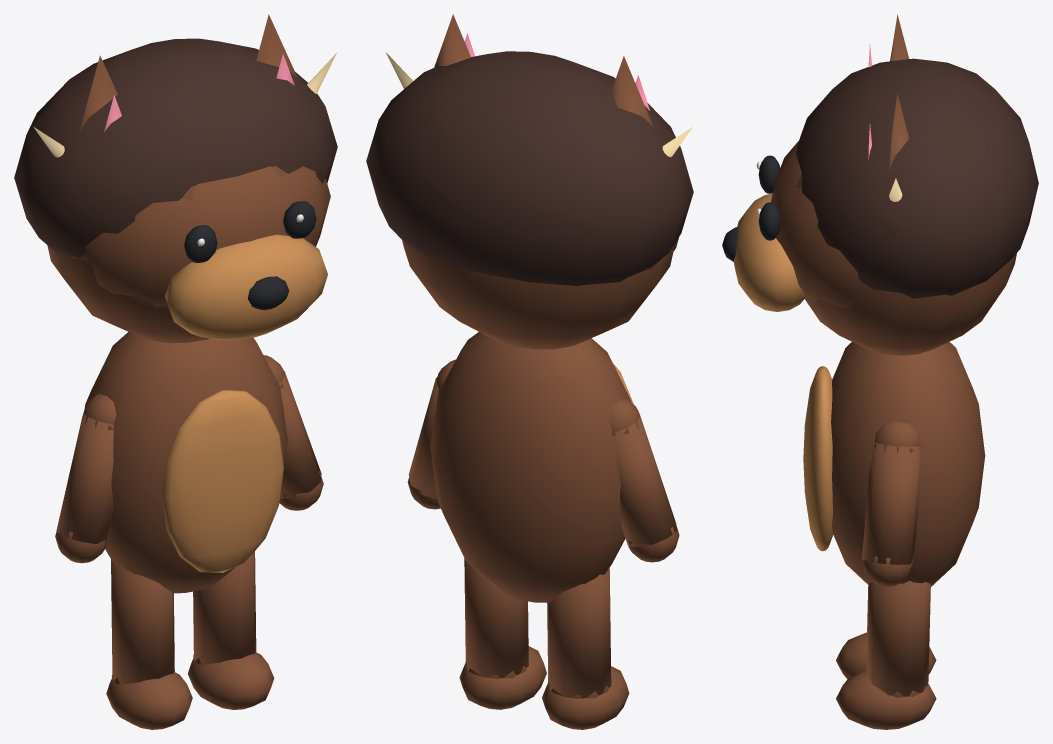
File: european-bison.glb
3 renders of one model, left to right at view 1: azimuth 30°, elevation 25°; view 2: azimuth 150°, elevation 25°; view 3: azimuth 270°, elevation 25°, orthographic. The views are drawn at different scales.
Visible parts, largest first — view 1: Asset.european-bison; view 2: Asset.european-bison; view 3: Asset.european-bison.
Part boxes in pixels (x1,y1,x2,y2): Asset.european-bison: (14, 14, 337, 729); Asset.european-bison: (366, 14, 693, 729); Asset.european-bison: (722, 14, 1038, 729).
Size of the model in its own units: 2.09 by 4.43 by 1.95.
